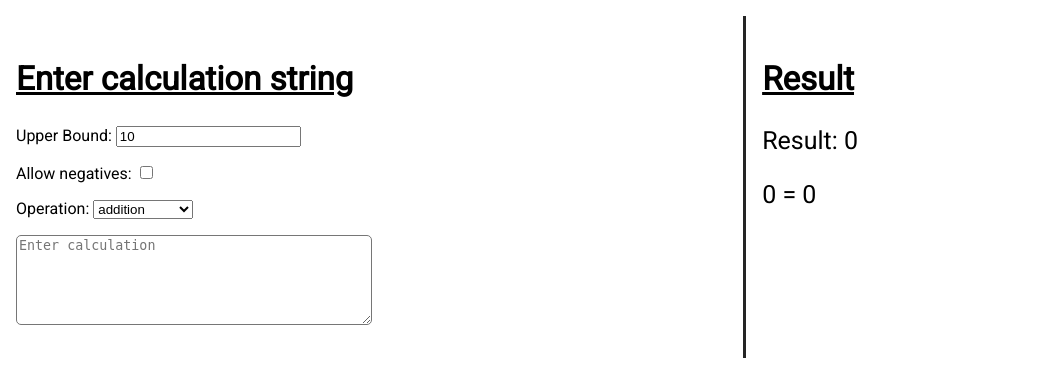
Test case: Calculator › upperBound input › with invalid number › renders error div
The image size is (1056, 375).
Replace the text in the field with id "upperBound" with "10hello" at (208,136), box [116, 126, 301, 147]
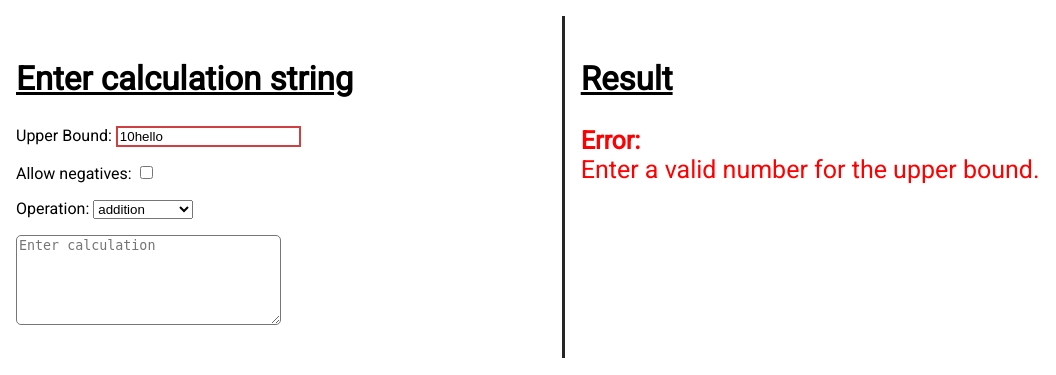
Check: the number of elements with class "error" is 1, box [581, 126, 1040, 184]
